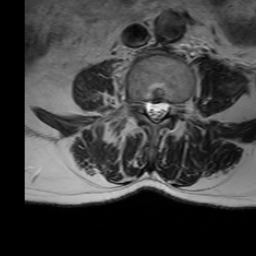CCS_normal: (152, 91, 160, 129)
LFS_normal: (168, 95, 179, 120)
LLS_normal: (160, 91, 168, 123)
RFS_normal: (135, 92, 143, 118)
RLS_normal: (143, 93, 152, 121)
